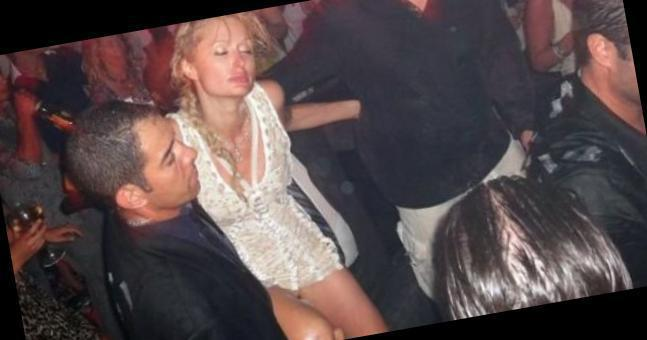Drunk: (197, 21, 256, 94)
